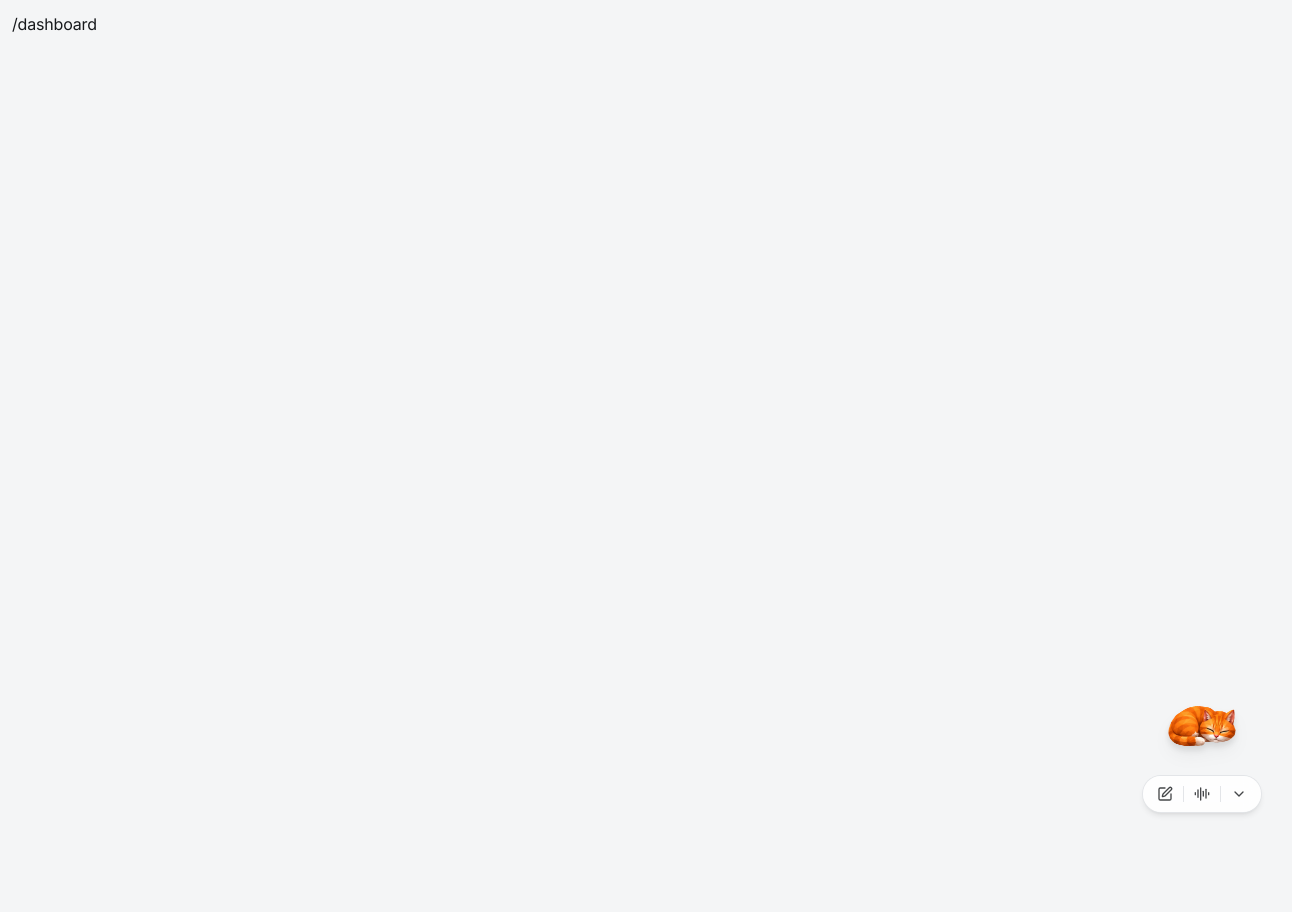
Test: Pet MIMI › rảnh 3 phút → ngủ (có z z z); rê chuột vào → thức dậy và vươn vai, rồi thôi
Later steps or results of the test are not shown.
Hover over the button named "MIMI —" at (1202, 726), box left=1164, top=688, right=1240, bottom=764
Wait 1750 ms
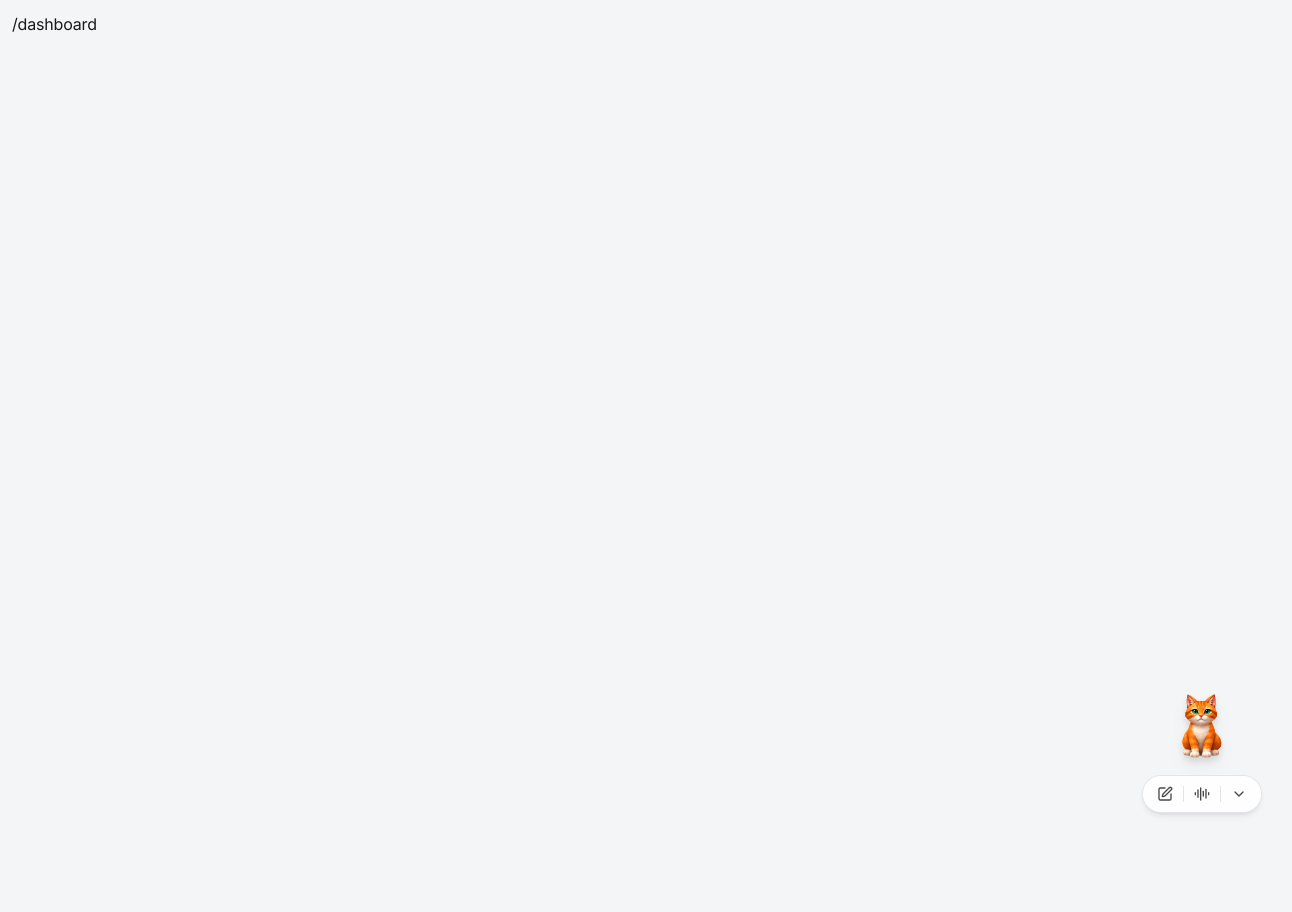
Expected: the button named "MIMI —" does not have attribute data-ngu, left=1164, top=688, right=1240, bottom=764
